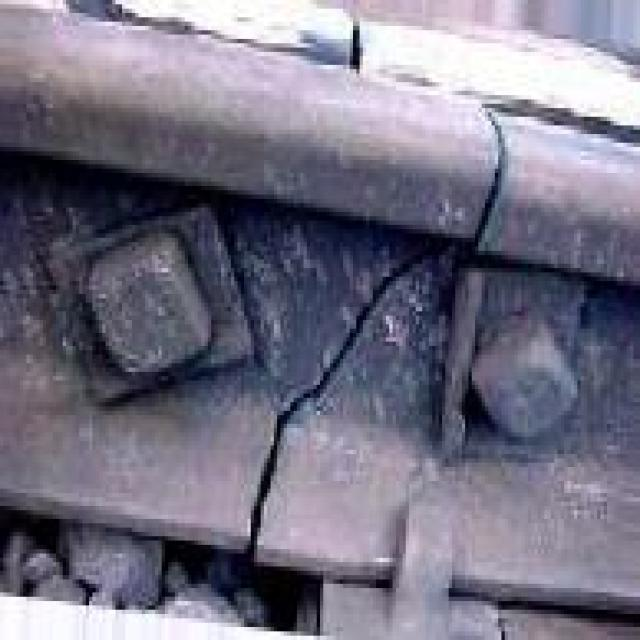crack: (187, 52, 570, 576)
